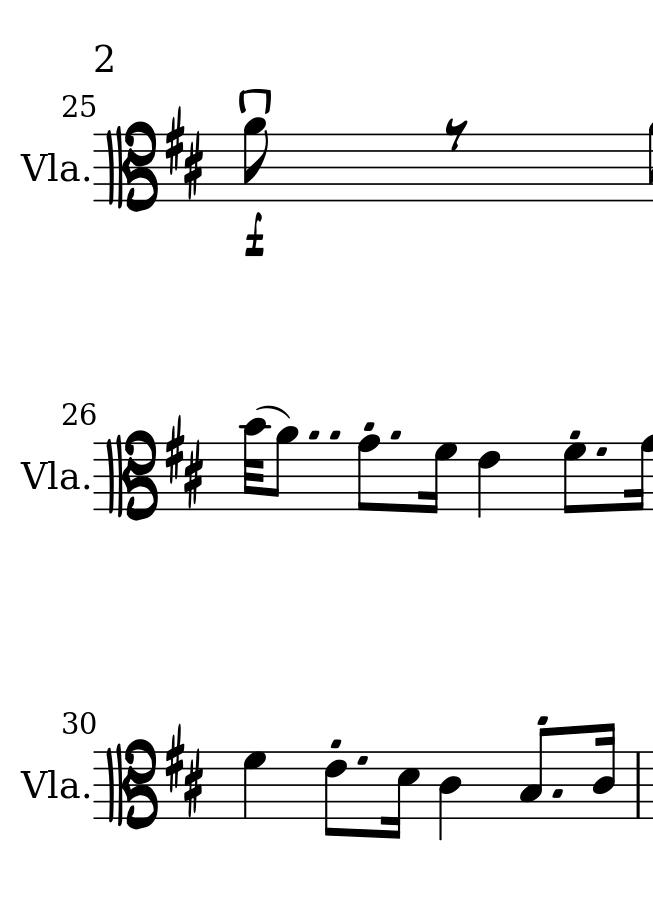0: (79, 709, 96, 736)
16_4: (591, 721, 617, 821)
16_5: (383, 751, 419, 841)
16_7: (420, 441, 458, 516)
2: (93, 42, 114, 73), (61, 94, 78, 119), (61, 402, 77, 426)
3: (61, 710, 78, 735)
32_10: (241, 418, 267, 511)
4_4: (437, 750, 463, 842)
4_6: (476, 441, 501, 519)
4_7: (241, 750, 267, 820)
5: (79, 92, 96, 121)
6: (80, 400, 97, 427)
8_3: (517, 726, 550, 821)
8_6: (322, 750, 348, 840)
8_7: (562, 442, 589, 516)
8_8: (356, 434, 380, 514)
8_9: (268, 425, 297, 512), (242, 116, 268, 203)
Cclef: (106, 119, 158, 213), (105, 429, 157, 522), (105, 737, 157, 830)
D_S: (164, 415, 204, 508), (164, 725, 203, 818), (164, 103, 203, 196)
Double_dot: (305, 426, 343, 443)
Marcato_above: (236, 84, 274, 116)
Rests8: (444, 117, 470, 152)
Single_barline: (631, 751, 645, 818)
Slur: (256, 404, 291, 420)
Vla: (21, 148, 81, 190), (21, 765, 81, 807), (22, 456, 81, 498)
dot: (353, 754, 373, 770), (387, 426, 402, 443), (595, 441, 608, 460), (550, 785, 564, 801)
f: (242, 211, 266, 259)
